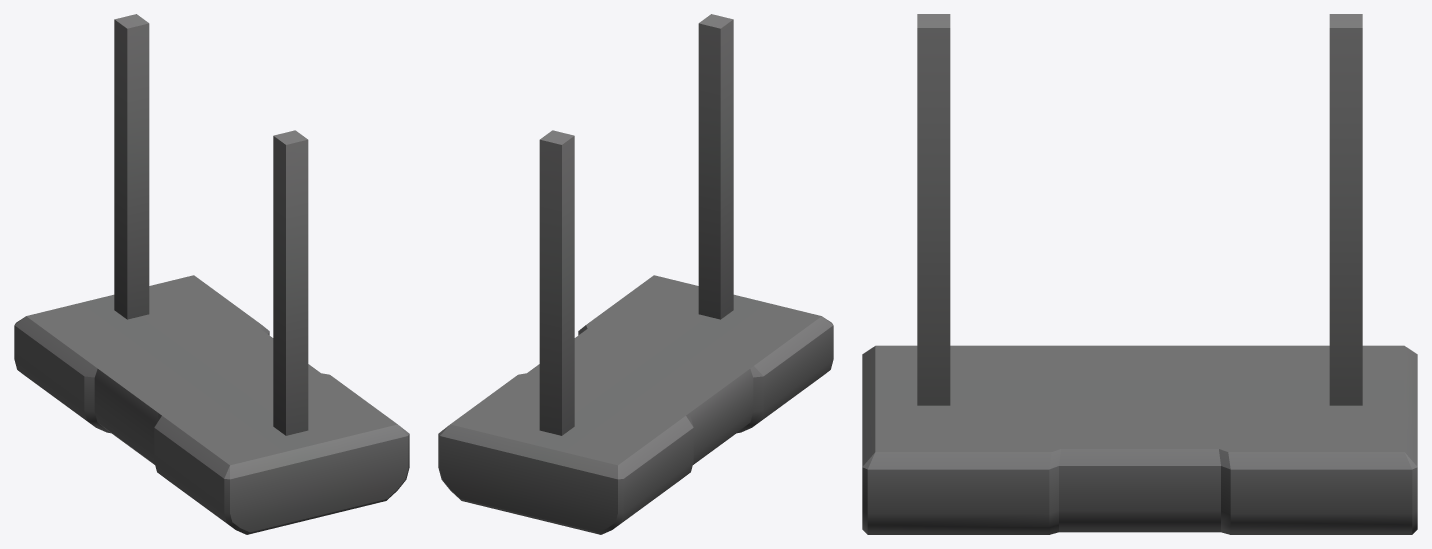
Rendered from Lamp1Small.fbx.
The picture shows the model from 3 angles, left to right: view 1: azimuth 30°, elevation 25°; view 2: azimuth 150°, elevation 25°; view 3: azimuth 270°, elevation 25°; orthographic projection. The views are drawn at different scales.
Parts seen in each view (by area): view 1: Lamp1Small; view 2: Lamp1Small; view 3: Lamp1Small.
Part boxes in pixels (x1,y1,x2,y2): Lamp1Small: [14, 14, 409, 534]; Lamp1Small: [438, 14, 833, 534]; Lamp1Small: [862, 14, 1417, 534].
Size of the model in its own units: 1 by 2 by 1.89.
